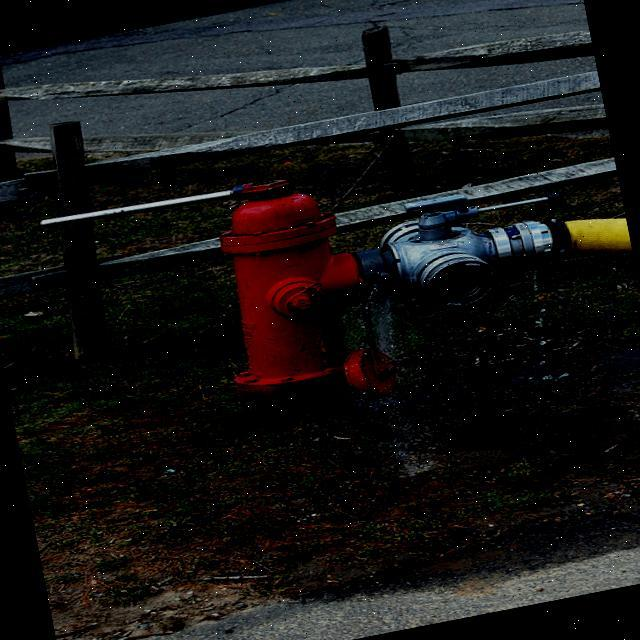fire_hydrant: (191, 163, 391, 414)
